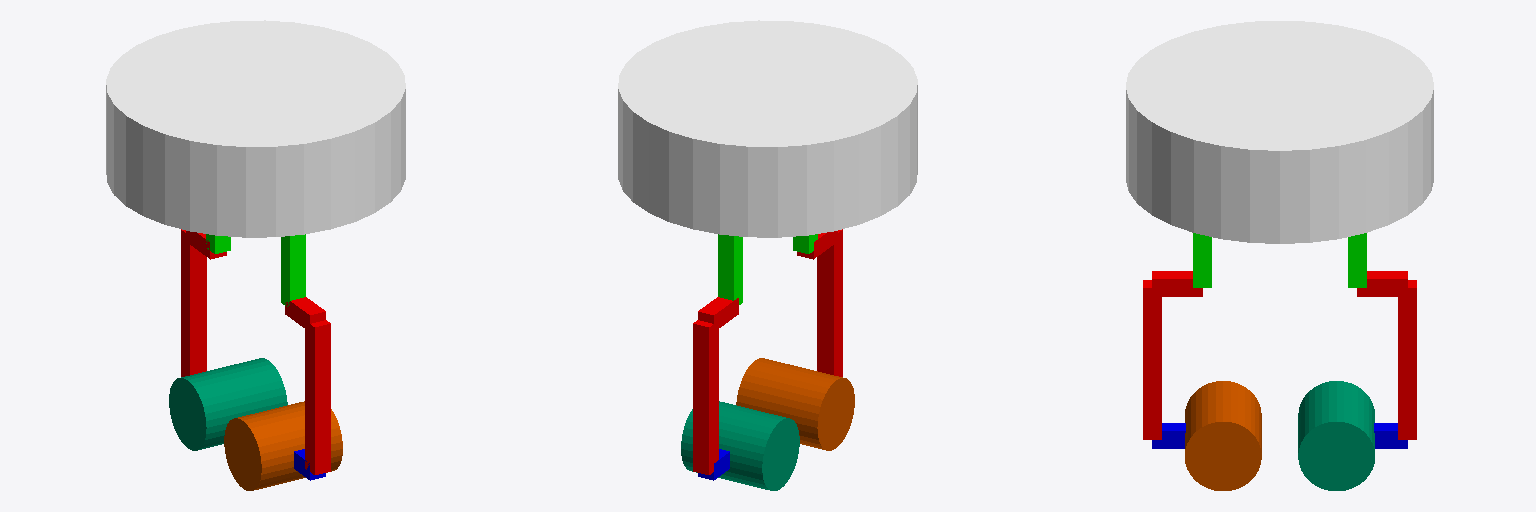
The robot description file, URDF, robot "roller":
<?xml version="1.0"?>
<robot name="roller">
  <link name="base">
    <inertial>
      <origin rpy="0 0 0" xyz="0 0 0" />
      <mass value="0" />
      <inertia ixx="0" ixy="0" ixz="0" iyy="0" iyz="0" izz="0" />
    </inertial>
  </link>
  <link name="roller_baselink">
    <inertial>
      <origin rpy="0 0 0" xyz="0 0 0" />
      <mass value="0" />
      <inertia ixx="0" ixy="0" ixz="0" iyy="0" iyz="0" izz="0" />
    </inertial>
    <visual>
      <origin rpy="0 0 0" xyz="0 0 0" />
      <geometry>
        <cylinder radius="0.08" length="0.05325" />
      </geometry>
      <material name="white">
        <color rgba="1 1 1 1" />
      </material>
    </visual>
    <collision>
      <origin rpy="0 0 0" xyz="0 0 0" />
      <geometry>
        <cylinder radius="0.0375" length="0.05325" />
      </geometry>
    </collision>
  </link>


  <link name="link1_left">
    <inertial>
      <origin rpy="0 0 0" xyz="0 0 0.03" />
      <mass value="0.5" />
      <inertia ixx="0.0001" ixy="0" ixz="0" iyy="0.0001" iyz="0" izz="0.0001" />
    </inertial>

    <visual>
      <origin rpy="0 0 0" xyz="0 0 0.03" />
      <geometry>
        <box size="0.01 0.01 0.06" />
      </geometry>
      <material name="green">
        <color rgba="0 1 0 1" />
      </material>
    </visual>

    <collision>
      <origin rpy="0 0 0" xyz="0 0 0.03" />
      <geometry>
        <box size="0.01 0.01 0.06" />
      </geometry>
    </collision>
  </link>

  <link name="link2_left">
    <inertial>
      <origin rpy="0 0 0" xyz="0 -0.0191446 0.03748" />
      <mass value="0.5" />
      <inertia ixx="0.0001" ixy="0" ixz="0" iyy="0.0001" iyz="0" izz="0.0001" />
    </inertial>

    <visual>
      <origin rpy="0 0 0" xyz="0 -0.0262 0.043525" />
      <geometry>
        <box size="0.01 0.01 0.08705" />
      </geometry>
      <material name="red">
        <color rgba="1 0 0 1" />
      </material>
    </visual>

    <visual>
      <origin rpy="0 0 0" xyz="0 -0.0131 0" />
      <geometry>
        <box size="0.01 0.0262 0.01" />
      </geometry>
      <material name="red">
        <color rgba="1 0 0 1" />
      </material>
    </visual>

    <collision>
      <origin rpy="0 0 0" xyz="0 -0.0262 0.043525" />
      <geometry>
        <box size="0.01 0.01 0.08705" />
      </geometry>
    </collision>

    <collision>
      <origin rpy="0 0 0" xyz="0 -0.0131 0" />
      <geometry>
        <box size="0.01 0.0262 0.01" />
      </geometry>
    </collision>

  </link>

  <link name="link3_left">
    <inertial>
      <origin rpy="0 0 0" xyz="0 0 0.03" />
      <mass value="0.5" />
      <inertia ixx="0.0001" ixy="0" ixz="0" iyy="0.0001" iyz="0" izz="0.0001" />
    </inertial>

    <visual>
      <origin rpy="0 0 0" xyz="0 0.0184 0" />
      <geometry>
        <box size="0.01 0.0368 0.01" />
      </geometry>
      <material name="blue">
        <color rgba="0 0 1 1" />
      </material>
    </visual>

    <collision>
      <origin rpy="0 0 0" xyz="0 0.0184 0" />
      <geometry>
        <box size="0.01 0.0368 0.01" />
      </geometry>
    </collision>
  </link>


  <link name="link4_left">
    <contact>
      <rolling_friction value="0"/>
      <spinning_friction value="0"/>
      <lateral_friction value="10"/>
    </contact>
    <inertial>
      <origin rpy="0 0 0" xyz="0 0 0.0" />
      <mass value="0.5" />
      <inertia ixx="0.0001" ixy="0" ixz="0" iyy="0.0001" iyz="0" izz="0.0001" />
    </inertial>

    <visual>
      <origin rpy="0 0 0" xyz="0 0 0.0" />
      <geometry>
        <!-- <mesh filename="gelsight_cad.obj" scale="1 1 1" /> -->
        <cylinder radius="0.02" length="0.05" />
      </geometry>
    </visual>

    <collision>
      <origin rpy="0 0 0" xyz="0 0 0.0" />
      <geometry>
        <!-- <mesh filename="gelsight_cad.obj" scale="1 1 1" /> -->
        <cylinder radius="0.02" length="0.05" />
      </geometry>
    </collision>

  </link>

  <link name="link5_left">
    <inertial>
      <origin rpy="0 0 1.57" xyz="0 0 0.00" />
      <mass value="0.05" />
      <inertia ixx="0.0001" ixy="0" ixz="0" iyy="0.0001" iyz="0" izz="0.0001" />
    </inertial>
    <visual>
      <origin rpy="0 0 0" xyz="0 0 0.0" />
      <geometry>
        <cylinder radius="0.02" length="0.05" />
      </geometry>
    </visual>
    <collision>
      <origin rpy="0 0 0" xyz="0 0 0.0" />
      <geometry>
        <cylinder radius="0.018" length="0.05" />
      </geometry>
    </collision>
  </link>


  <link name="link1_right">
    <inertial>
      <origin rpy="0 0 0" xyz="0 0 0.03" />
      <mass value="0.5" />
      <inertia ixx="0.0001" ixy="0" ixz="0" iyy="0.0001" iyz="0" izz="0.0001" />
    </inertial>

    <visual>
      <origin rpy="0 0 0" xyz="0 0 0.03" />
      <geometry>
        <box size="0.01 0.01 0.06" />
      </geometry>
      <material name="green">
        <color rgba="0 1 0 1" />
      </material>
    </visual>

    <collision>
      <origin rpy="0 0 0" xyz="0 0 0.03" />
      <geometry>
        <box size="0.01 0.01 0.06" />
      </geometry>
    </collision>
  </link>

  <link name="link2_right">
    <inertial>
      <origin rpy="0 0 0" xyz="0 0.0191446 0.03748" />
      <mass value="0.5" />
      <inertia ixx="0.0001" ixy="0" ixz="0" iyy="0.0001" iyz="0" izz="0.0001" />
    </inertial>

    <visual>
      <origin rpy="0 0 0" xyz="0 0.0262 0.043525" />
      <geometry>
        <box size="0.01 0.01 0.08705" />
      </geometry>
      <material name="red">
        <color rgba="1 0 0 1" />
      </material>
    </visual>

    <visual>
      <origin rpy="0 0 0" xyz="0 0.0131 0" />
      <geometry>
        <box size="0.01 0.0262 0.01" />
      </geometry>
      <material name="red">
        <color rgba="1 0 0 1" />
      </material>
    </visual>

    <collision>
      <origin rpy="0 0 0" xyz="0 0.0262 0.043525" />
      <geometry>
        <box size="0.01 0.01 0.08705" />
      </geometry>
    </collision>

    <collision>
      <origin rpy="0 0 0" xyz="0 0.0131 0" />
      <geometry>
        <box size="0.01 0.0262 0.01" />
      </geometry>
    </collision>

  </link>

  <link name="link3_right">
    <inertial>
      <origin rpy="0 0 0" xyz="0 0 0.03" />
      <mass value="0.5" />
      <inertia ixx="0.0001" ixy="0" ixz="0" iyy="0.0001" iyz="0" izz="0.0001" />
    </inertial>

    <visual>
      <origin rpy="0 0 0" xyz="0 -0.0184 0" />
      <geometry>
        <box size="0.01 0.0368 0.01" />
      </geometry>
      <material name="blue">
        <color rgba="0 0 1 1" />
      </material>
    </visual>

    <collision>
      <origin rpy="0 0 0" xyz="0 -0.0184 0" />
      <geometry>
        <box size="0.01 0.0368 0.01" />
      </geometry>
    </collision>
  </link>


  <link name="link4_right">
    <contact>
      <rolling_friction value="0"/>
      <spinning_friction value="0"/>
      <lateral_friction value="10"/>
    </contact>

    <inertial>
      <origin rpy="0 0 0" xyz="0 0 0.0" />
      <mass value="0.5" />
      <inertia ixx="0.0001" ixy="0" ixz="0" iyy="0.0001" iyz="0" izz="0.0001" />
    </inertial>

    <visual>
      <origin rpy="0 0 0" xyz="0 0 0.0" />
      <geometry>
        <!-- <mesh filename="gelsight_cad.obj" scale="1 1 1" /> -->
        <cylinder radius="0.02" length="0.05" />
      </geometry>
    </visual>
    
    <collision>
      <origin rpy="0 0 0" xyz="0 0 0.0" />
      <geometry>
        <!-- <mesh filename="gelsight_cad.obj" scale="1 1 1" /> -->
        <cylinder radius="0.02" length="0.05" />
      </geometry>
    </collision>
    
  </link>
  
  <link name="link5_right">
    <inertial>
      <origin rpy="0 0 -1.57" xyz="0 0 0.00" />
      <mass value="0.05" />
      <inertia ixx="0.0001" ixy="0" ixz="0" iyy="0.0001" iyz="0" izz="0.0001" />
    </inertial>
    <visual>
      <origin rpy="0 0 0" xyz="0 0 0.0" />
      <geometry>
        <cylinder radius="0.02" length="0.05" />
      </geometry>
    </visual>
    <collision>
      <origin rpy="0 0 0" xyz="0 0 0.0" />
      <geometry>
        <cylinder radius="0.018" length="0.05" />
      </geometry>
    </collision>
  </link>

  <joint name="wrist" type="revolute">
    <origin rpy="0 3.1415 0" xyz="0 0 0.0" />
    <parent link="base" />
    <child link="roller_baselink" />
    <axis xyz="0 0 -1" />
    <limit effort="10.0" lower="-10000" upper="10000" velocity="10000" />
    <dynamics damping="0.0" friction="0.0" />
  </joint>

  <joint name="joint1_left" type="prismatic">
    <origin xyz="0.0 -0.04 0.026625" rpy="0 0 0" />
    <parent link="roller_baselink" />
    <child link="link1_left" />
    <axis xyz="0 1 0" />
    <limit effort="10.0" lower="-0.03" upper="0.01" velocity="10000" />
    <dynamics damping="0.0" friction="0.0" />
  </joint>

  <joint name="joint2_left" type="fixed">
    <origin xyz="0.0 0.0 0.06" rpy="0 0 0" />
    <parent link="link1_left" />
    <child link="link2_left" />
    <axis xyz="1 0 0" />
    <limit effort="1.0" lower="-10000" upper="10000" velocity="10000" />
    <dynamics damping="0.0" friction="0.0" />
  </joint>

  <joint name="joint3_left" type="revolute">
    <origin xyz="0.0 -0.0262 0.08705" rpy="0 0 0" />
    <parent link="link2_left" />
    <child link="link3_left" />
    <axis xyz="0 1 0" />
    <limit effort="1.0" lower="-10000" upper="10000" velocity="10000" />
    <dynamics damping="0.0" friction="0.0" />
  </joint>

  <joint name="joint4_left" type="revolute">
    <origin xyz="0.0 0.0368 0.0" rpy="0 1.57 0" />
    <parent link="link3_left" />
    <child link="link4_left" />
    <axis xyz="0 0 1" />
    <limit effort="1.0" lower="-10000" upper="10000" velocity="10000" />
    <dynamics damping="0.0" friction="0.0" />
  </joint>

  <joint name="joint5_left" type="fixed">
    <origin xyz="0.0 0.0368 0.0" rpy="0 1.57 0" />
    <parent link="link3_left" />
    <child link="link5_left" />
    <axis xyz="0 0 1" />
    <limit effort="1.0" lower="-10000" upper="10000" velocity="10000" />
    <dynamics damping="0.0" friction="0.0" />
  </joint>


  <joint name="joint1_right" type="prismatic">
    <origin xyz="0.0 0.04 0.026625" rpy="0 0 0" />
    <parent link="roller_baselink" />
    <child link="link1_right" />
    <axis xyz="0 1 0" />
    <limit effort="10.0" lower="-0.01" upper="0.03" velocity="10000" />
    <dynamics damping="0.0" friction="0.0" />
  </joint>

  <joint name="joint2_right" type="fixed">
    <origin xyz="0.0 0.0 0.06" rpy="0 0 0" />
    <parent link="link1_right" />
    <child link="link2_right" />
    <axis xyz="1 0 0" />
    <limit effort="1.0" lower="-10000" upper="10000" velocity="10000" />
    <dynamics damping="0.0" friction="0.0" />
  </joint>

  <joint name="joint3_right" type="revolute">
    <origin xyz="0.0 0.0262 0.08705" rpy="0 0 0" />
    <parent link="link2_right" />
    <child link="link3_right" />
    <axis xyz="0 1 0" />
    <limit effort="1.0" lower="-10000" upper="10000" velocity="10000" />
    <dynamics damping="0.0" friction="0.0" />
  </joint>

  <joint name="joint4_right" type="revolute">
    <origin xyz="0.0 -0.0368 0.0" rpy="0 1.57 0" />
    <parent link="link3_right" />
    <child link="link4_right" />
    <axis xyz="0 0 1" />
    <limit effort="1.0" lower="-10000" upper="10000" velocity="10000" />
    <dynamics damping="0.0" friction="0.0" />
  </joint>

  <joint name="joint5_right" type="fixed">
    <origin xyz="0.0 -0.0368 0.0" rpy="0 1.57 0" />
    <parent link="link3_right" />
    <child link="link5_right" />
    <axis xyz="0 0 1" />
    <limit effort="1.0" lower="-10000" upper="10000" velocity="10000" />
    <dynamics damping="0.0" friction="0.0" />
  </joint>

</robot>

--- Render facts (derived) ---
Views: 3 orthographic renders of the robot side by side, from view 1: azimuth 30°, elevation 25°; view 2: azimuth 150°, elevation 25°; view 3: azimuth 270°, elevation 25°.
Model roller with 12 links and 11 joints (5 revolute, 2 prismatic, 4 fixed), rooted at base, posed all joints at 0.
Links seen in each view (by area): view 1: roller_baselink, link4_right, link4_left, link2_left, link2_right, link1_left; view 2: roller_baselink, link4_left, link4_right, link2_right, link2_left, link1_right; view 3: roller_baselink, link4_left, link4_right, link2_left, link2_right, link1_left, link1_right, link3_left, link3_right.
Boxes of the visible links, x1,y1,x2,y2 form: roller_baselink: (106,20,405,237); link4_right: (169,358,287,450); link4_left: (224,401,342,490); link2_left: (285,297,330,474); link2_right: (181,229,226,376); link1_left: (281,234,305,306); roller_baselink: (618,20,917,237); link4_left: (736,358,854,450); link4_right: (681,401,799,490); link2_right: (693,297,738,474); link2_left: (797,229,842,376); link1_right: (718,234,742,304); roller_baselink: (1126,21,1433,243); link4_left: (1185,381,1261,490); link4_right: (1298,381,1374,490); link2_left: (1143,271,1202,439); link2_right: (1357,271,1416,439); link1_left: (1193,233,1211,287); link1_right: (1348,233,1366,287); link3_left: (1152,423,1185,448); link3_right: (1374,423,1407,448).
Bounding box of the posed robot: 0.16 × 0.16 × 0.2203 m (x, y, z).
Geometry: primitives only (box / cylinder / sphere), no mesh files.